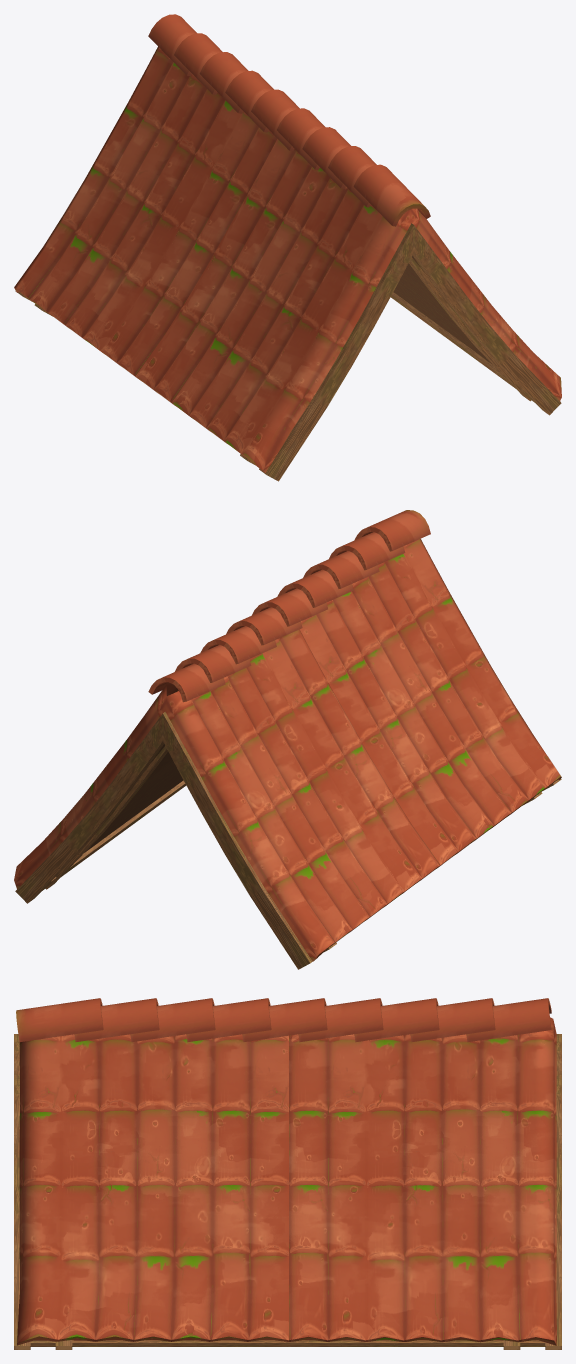
File: roof_round_tiles_4x6.glb
3 views of the same model, one above another, from view 1: azimuth 30°, elevation 25°; view 2: azimuth 150°, elevation 25°; view 3: azimuth 270°, elevation 25° (orthographic). The views are drawn at different scales.
Parts seen in each view (by area): view 1: Roof_RoundTiles_4x6; view 2: Roof_RoundTiles_4x6; view 3: Roof_RoundTiles_4x6.
Part boxes in pixels (x1,y1,x2,y2): Roof_RoundTiles_4x6: (14, 14, 561, 481); Roof_RoundTiles_4x6: (14, 510, 561, 969); Roof_RoundTiles_4x6: (14, 998, 561, 1349).
Bounding box in the file's own units: 5.51 × 4.23 × 7.57.
2 materials, 2 textured.
